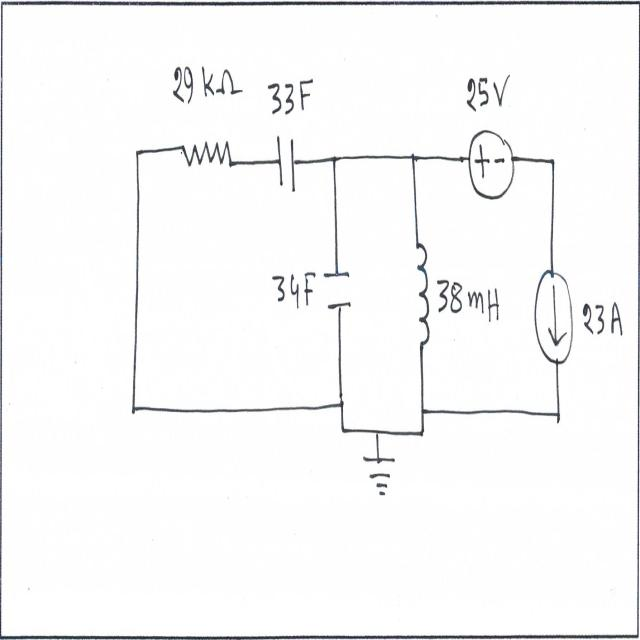capacitor: (323, 261, 353, 324), (275, 126, 297, 196)
current_source: (531, 260, 577, 371)
ground: (363, 450, 399, 504)
inductor: (413, 231, 435, 352)
resistor: (176, 128, 238, 178)
voltage_source: (466, 120, 521, 208)
